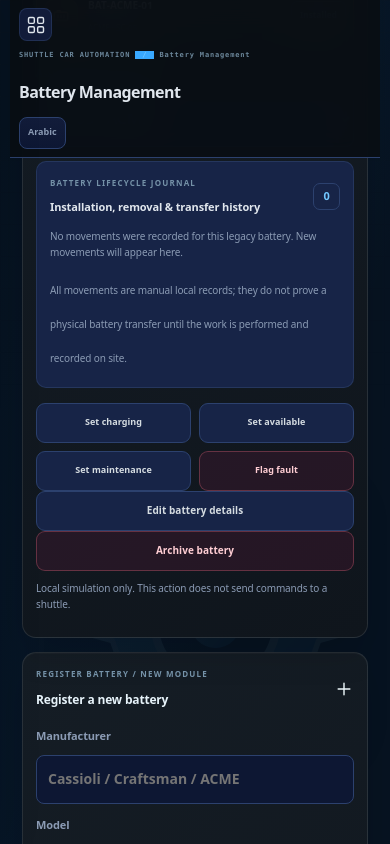
Test: Shuttle Car Automation V8 › allows manual battery status updates in the battery workspace
The image size is (390, 844).
Earlier steps of the test are not shown.
(page scrolled)
Step 1. Click the button "Set charging" → (114, 423), box [36, 403, 191, 443]
(page scrolled)
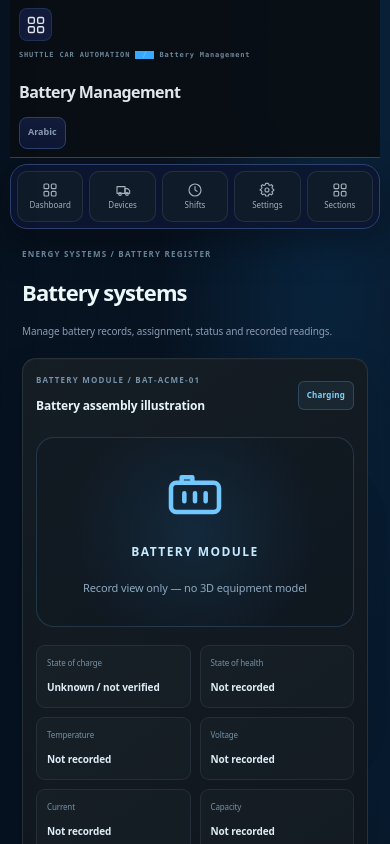
Check: the text "Charging" is shown, box [298, 381, 354, 410]
